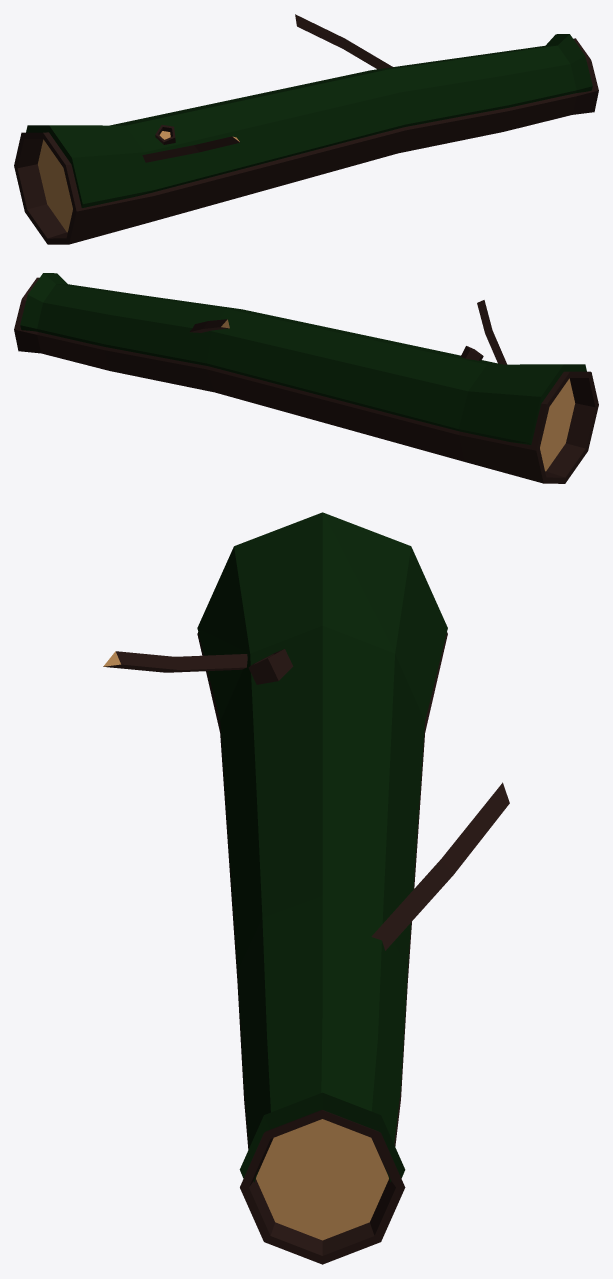
The model's file is SM_trunk_dead_moss_02.FBX.
3 renders of one model, top to bottom at view 1: azimuth 30°, elevation 25°; view 2: azimuth 150°, elevation 25°; view 3: azimuth 270°, elevation 25°, orthographic. The views are drawn at different scales.
Visible parts, largest first — view 1: Object059; view 2: Object059; view 3: Object059.
Part boxes in pixels (box(x1,y1,x2,y2)): Object059: box(14, 14, 598, 244); Object059: box(14, 273, 598, 483); Object059: box(103, 512, 509, 1264).
Size of the model in its own units: 231 by 51.78 by 75.55.
